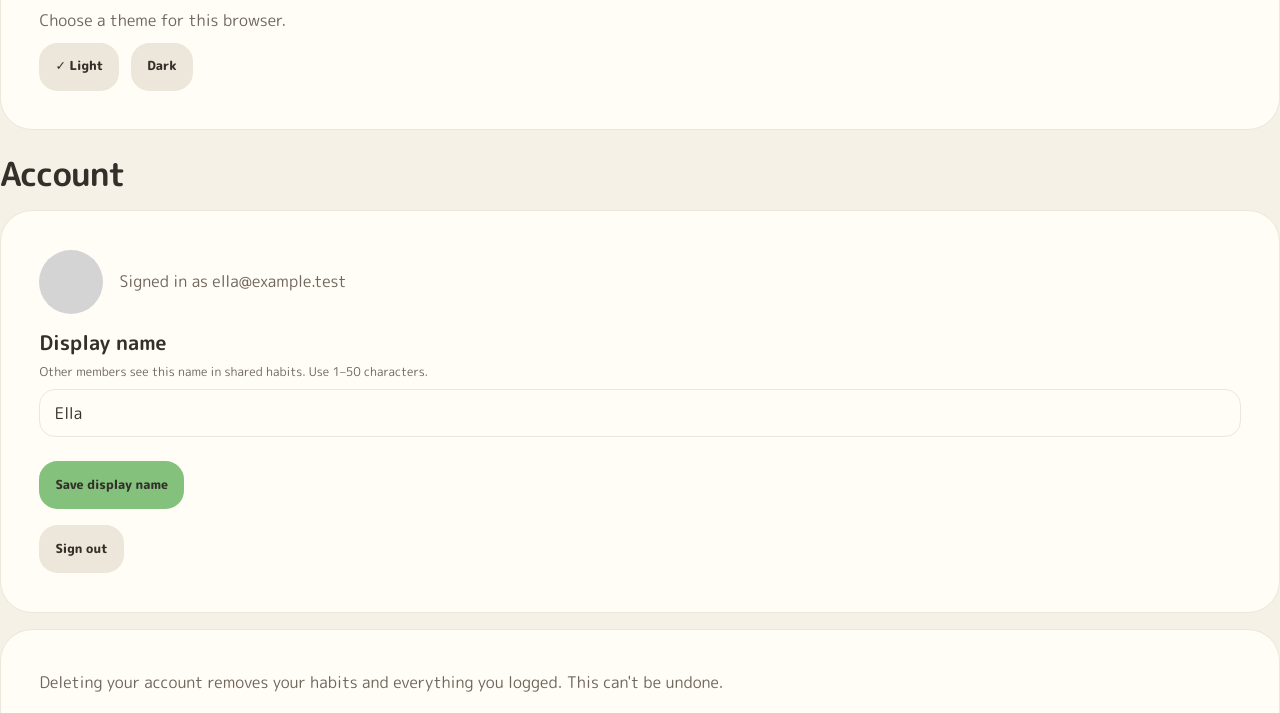
it: Settings display name (#259) › keeps unsaved input on network failure and allows retry
The image size is (1280, 713).
(page scrolled)
Replace the text in the field labelled "Display name" with "Ella with friends" at (640, 413), box [39, 389, 1241, 437]
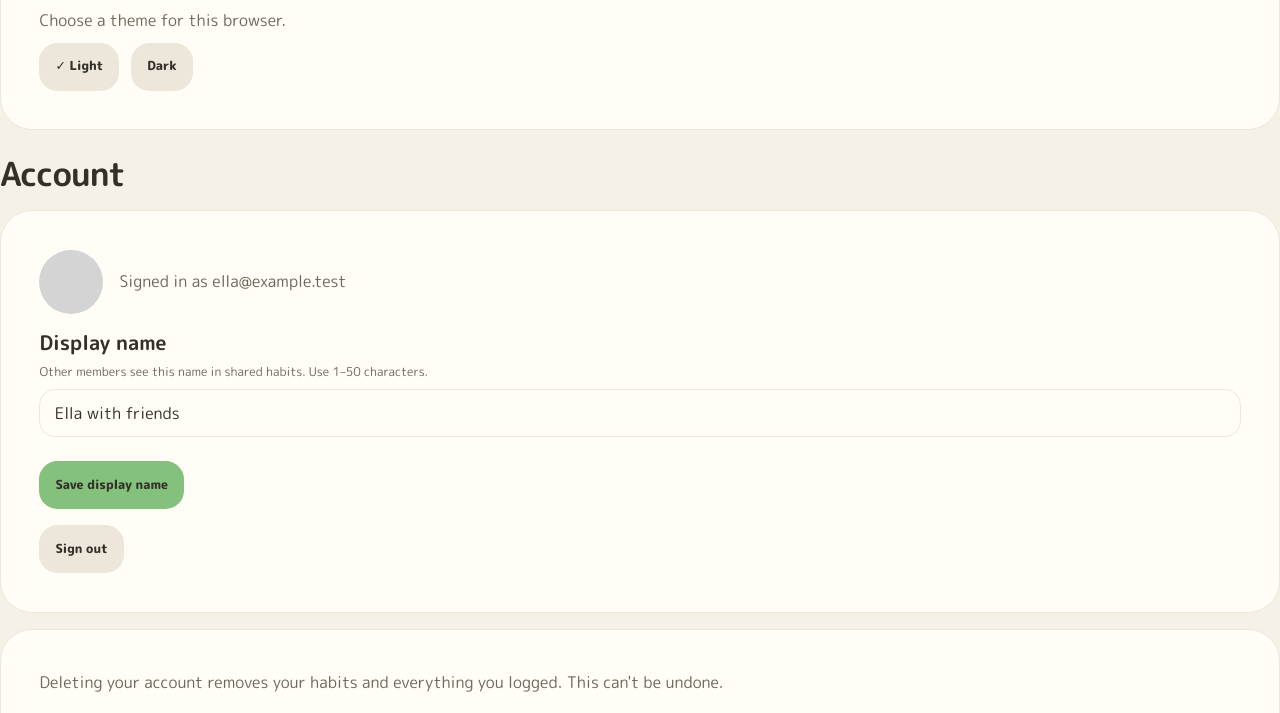
Click the button "Save display name" at (112, 485), box [39, 461, 184, 509]
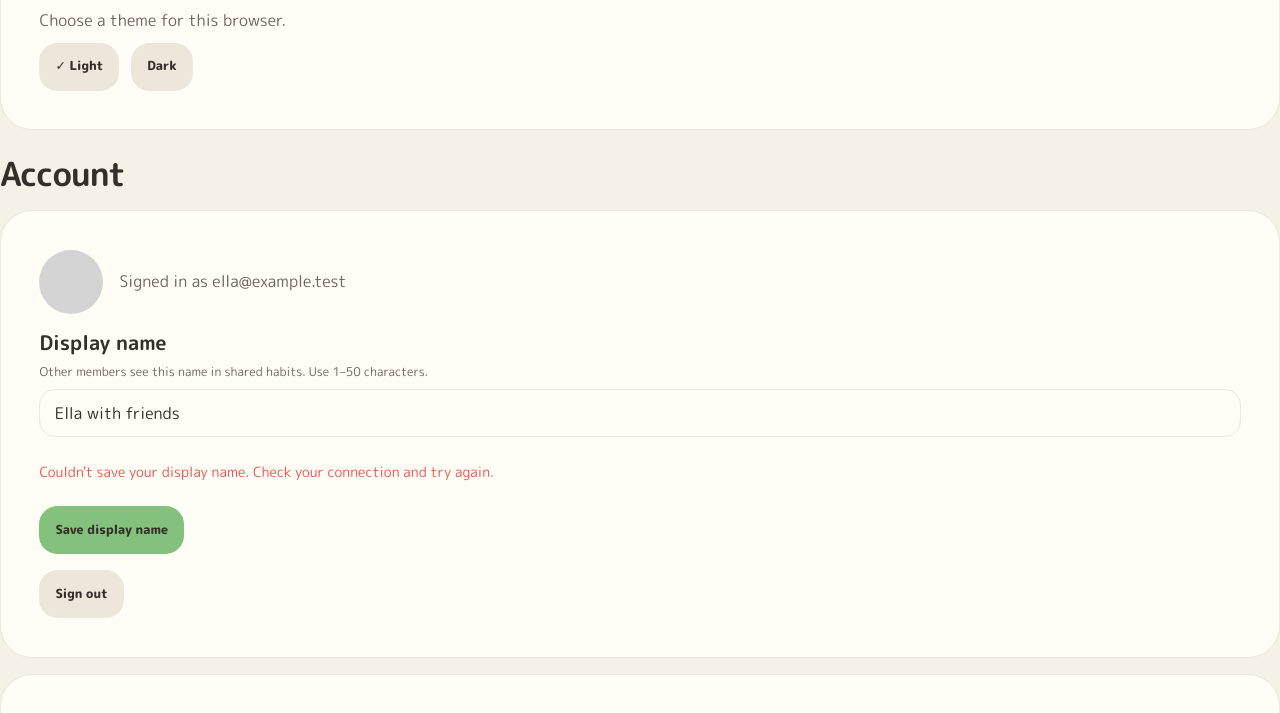
Expected: the text "Display name saved." is not shown
Result: the message shows "Couldn't save your display name" at [39, 462, 494, 481]
Click the button "Save display name" at (112, 530), box [39, 506, 184, 554]
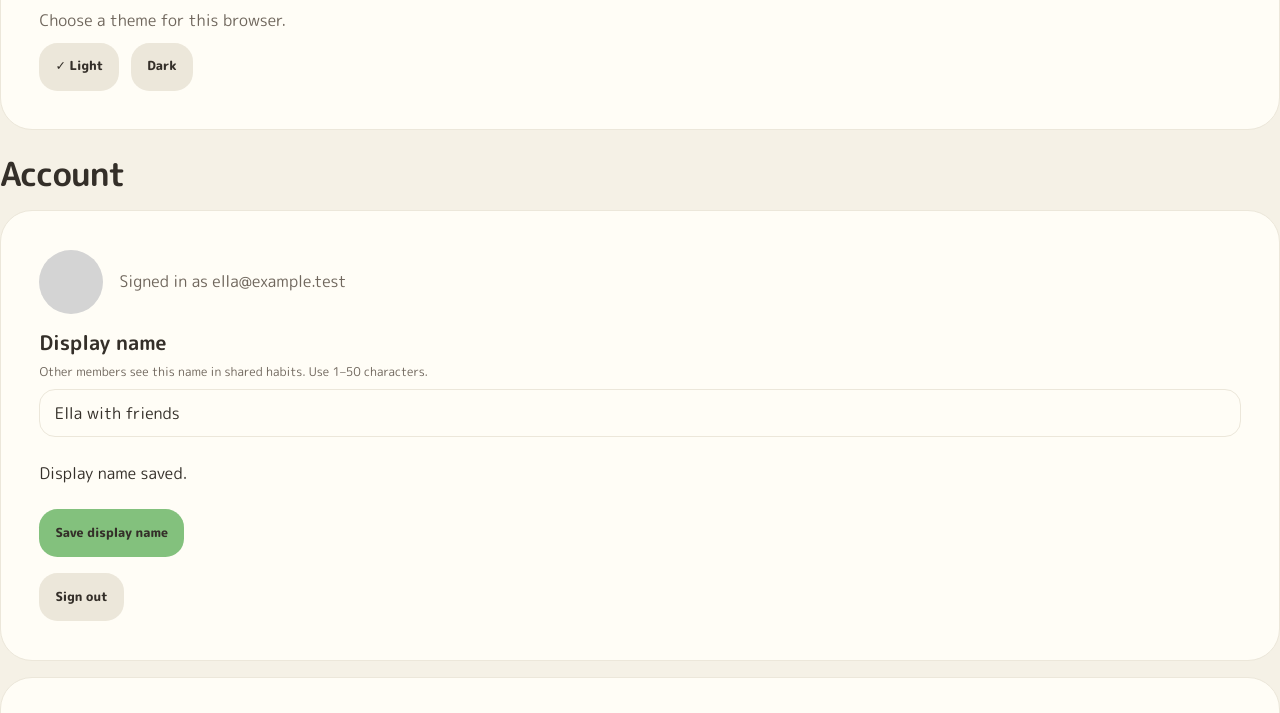
Result: the text "Display name saved." is shown at [39, 462, 187, 484]
